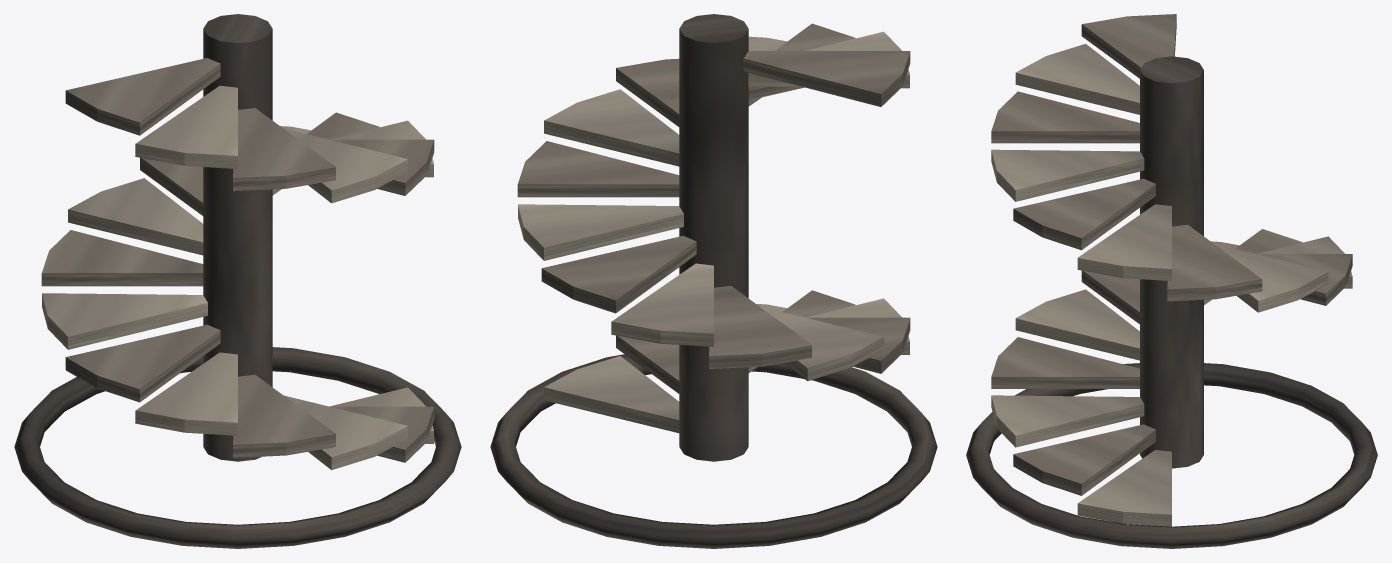
Rendered from stairs.obj.
3 renders of one model, left to right at view 1: azimuth 30°, elevation 25°; view 2: azimuth 150°, elevation 25°; view 3: azimuth 270°, elevation 25°, orthographic. The views are drawn at different scales.
Bounding box in the file's own units: 15.5 × 16.43 × 15.5.
Materials: 1 (1 with a texture image).
